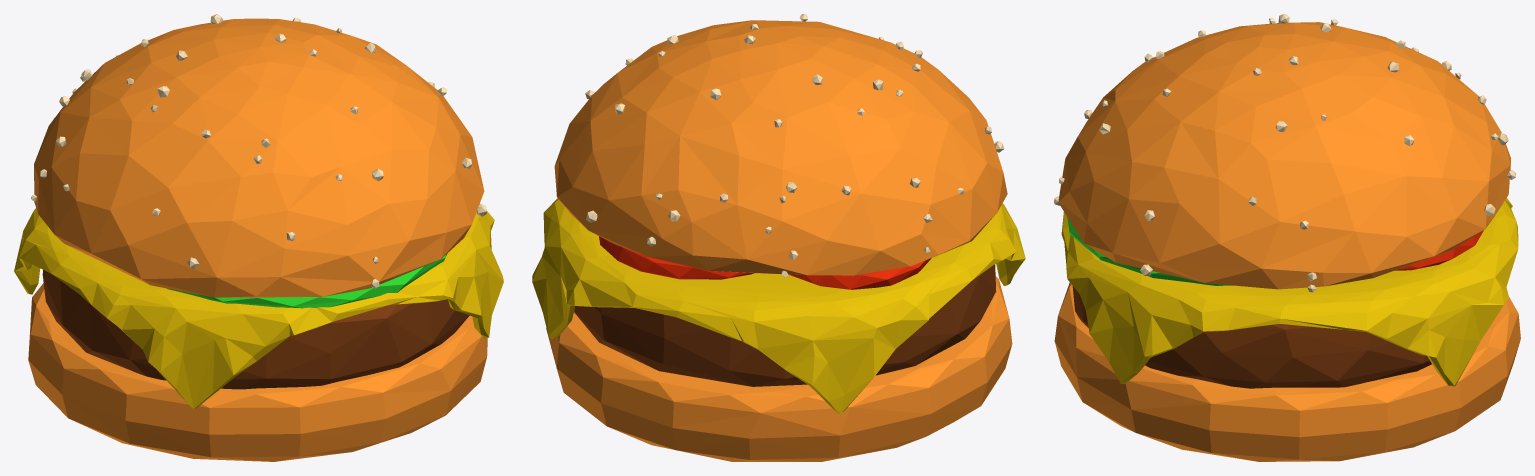
Rendered from Burger.fbx.
3 renders of one model, left to right at view 1: azimuth 30°, elevation 25°; view 2: azimuth 150°, elevation 25°; view 3: azimuth 270°, elevation 25°, orthographic.
Parts seen in each view (by area): view 1: Burger; view 2: Burger; view 3: Burger.
Part boxes in pixels (x1,y1,x2,y2): Burger: (14,14,503,461); Burger: (532,14,1025,461); Burger: (1054,14,1520,461).
Size of the model in its own units: 198 by 158 by 198.
